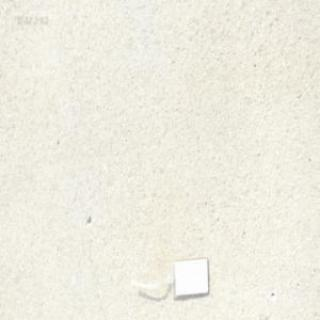LuggageTagtrack_idkeyframe: (125, 253, 208, 299)
